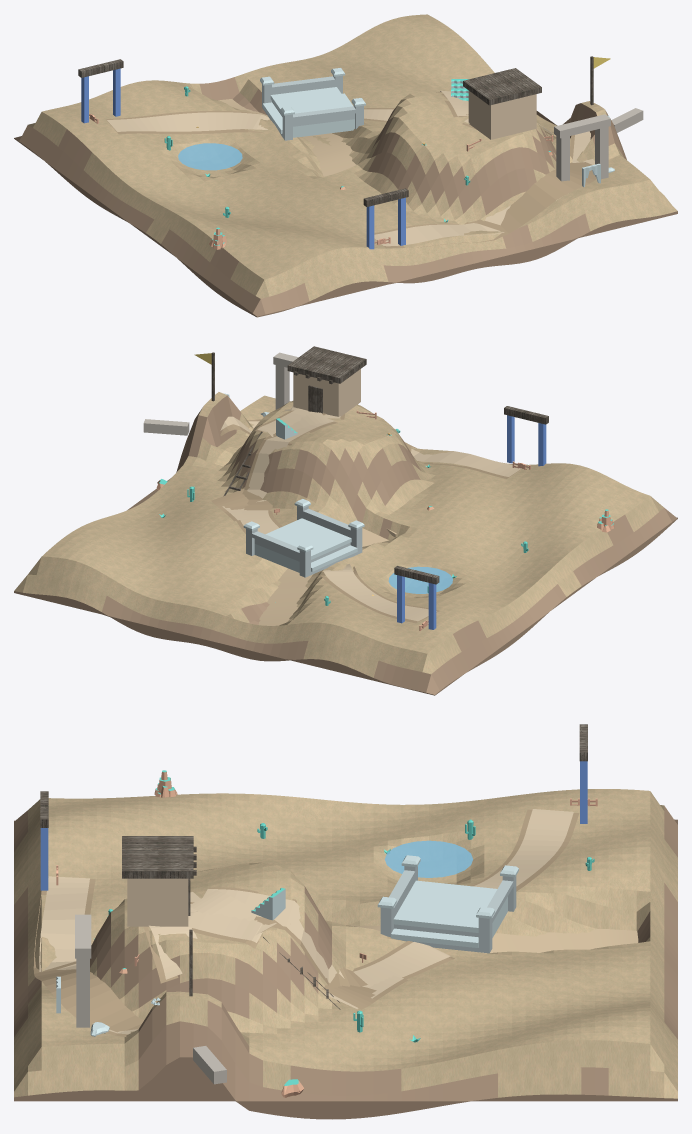
The model's file is world2_desert.glb.
3 renders of one model, top to bottom at view 1: azimuth 30°, elevation 25°; view 2: azimuth 150°, elevation 25°; view 3: azimuth 270°, elevation 25°, orthographic. The views are drawn at different scales.
Visible parts, largest first — view 1: W2_Terrain, bridge_stone, W2_RoadCase_7, W2_Road_0, W2_HutBase, W2_Road_7, W2_HutRoof, W2_Wadi, W2_Oasis, W2_RoadCase_0, W2_RuinTop, W2_RuinP1 (+3 smaller); view 2: W2_Terrain, bridge_stone, W2_HutBase, W2_Wadi, W2_HutRoof, W2_Road_1, W2_Road_0, W2_Road_7, W2_RoadCase_1, W2_Oasis, W2_RuinFallen, W2_RuinP1 (+2 smaller); view 3: W2_Terrain, bridge_stone, W2_Road_1, W2_RoadCase_7, W2_Road_7, W2_HutRoof, W2_HutBase, W2_Road_0, W2_Wadi, W2_Oasis, W2_RoadCase_1, W2_Road_3 (+8 smaller).
Part boxes in pixels (x1,y1,x2,y2): W2_Terrain: (14,14,677,317); bridge_stone: (260,68,365,140); W2_RoadCase_7: (374,135,596,247); W2_Road_0: (107,112,269,131); W2_HutBase: (468,91,536,139); W2_Road_7: (374,131,594,246); W2_HutRoof: (463,68,541,105); W2_Wadi: (218,99,356,176); W2_Oasis: (178,143,242,170); W2_RoadCase_0: (106,110,263,134); W2_RuinTop: (554,114,610,138); W2_RuinP1: (595,126,608,179); W2_Terrain: (14,392,677,695); bridge_stone: (243,499,364,577); W2_HutBase: (293,369,360,416); W2_Wadi: (258,528,396,625); W2_HutRoof: (287,346,366,383); W2_Road_1: (240,418,335,534); W2_Road_0: (321,564,436,621); W2_Road_7: (220,416,521,476); W2_RoadCase_1: (236,421,337,533); W2_Oasis: (388,566,452,593); W2_RuinFallen: (143,419,189,435); W2_RuinP1: (275,365,289,409); W2_Terrain: (14,789,677,1119); bridge_stone: (377,855,518,953); W2_Road_1: (203,889,450,987); W2_RoadCase_7: (33,877,143,1036); W2_Road_7: (39,876,138,1034); W2_HutRoof: (122,836,193,878); W2_HutBase: (127,878,188,926); W2_Road_0: (473,809,573,888); W2_Wadi: (349,925,638,953); W2_Oasis: (384,840,473,877); W2_RoadCase_1: (208,887,454,988); W2_Road_3: (188,904,262,942).
Size of the model in its own units: 26.2 by 7.34 by 24.
22 materials, 2 textured.
